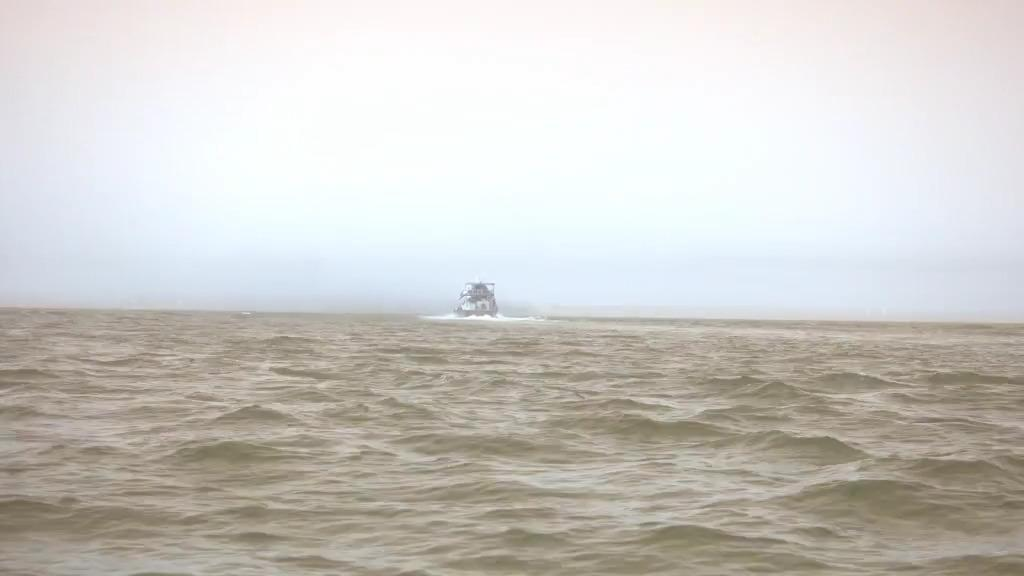PassengerShip: (450, 275, 502, 321)
